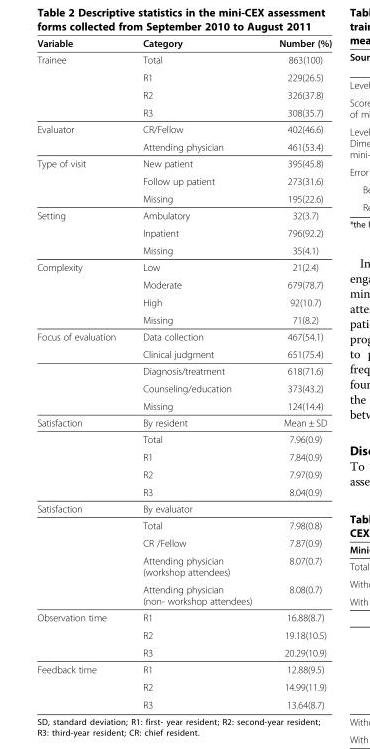table: (36, 37, 331, 709)
table column: (128, 37, 264, 709), (36, 37, 128, 709), (264, 37, 331, 709)
table column header: (36, 37, 331, 51)
table row: (36, 551, 331, 580), (36, 580, 331, 608), (36, 85, 331, 103), (36, 154, 331, 172), (36, 223, 331, 241), (36, 275, 331, 293), (36, 310, 331, 328), (36, 379, 331, 397), (36, 447, 331, 465), (36, 465, 331, 483), (36, 533, 331, 551), (36, 608, 331, 626), (36, 677, 331, 695), (36, 51, 331, 68), (36, 68, 331, 85), (36, 103, 331, 120), (36, 120, 331, 137), (36, 137, 331, 154), (36, 172, 331, 189), (36, 189, 331, 206), (36, 206, 331, 223), (36, 241, 331, 258), (36, 258, 331, 275), (36, 293, 331, 310), (36, 328, 331, 345), (36, 345, 331, 362), (36, 362, 331, 379), (36, 397, 331, 414), (36, 430, 331, 447), (36, 483, 331, 500), (36, 516, 331, 533), (36, 626, 331, 643), (36, 643, 331, 660), (36, 660, 331, 677), (36, 414, 331, 430), (36, 500, 331, 516), (36, 37, 331, 51), (36, 695, 331, 709)
table spanning cell: (36, 500, 128, 608), (36, 328, 128, 414), (36, 414, 128, 500), (36, 258, 128, 328), (36, 51, 128, 120), (36, 154, 128, 206), (36, 206, 128, 258), (36, 608, 128, 660), (36, 660, 128, 709), (36, 120, 128, 154)
